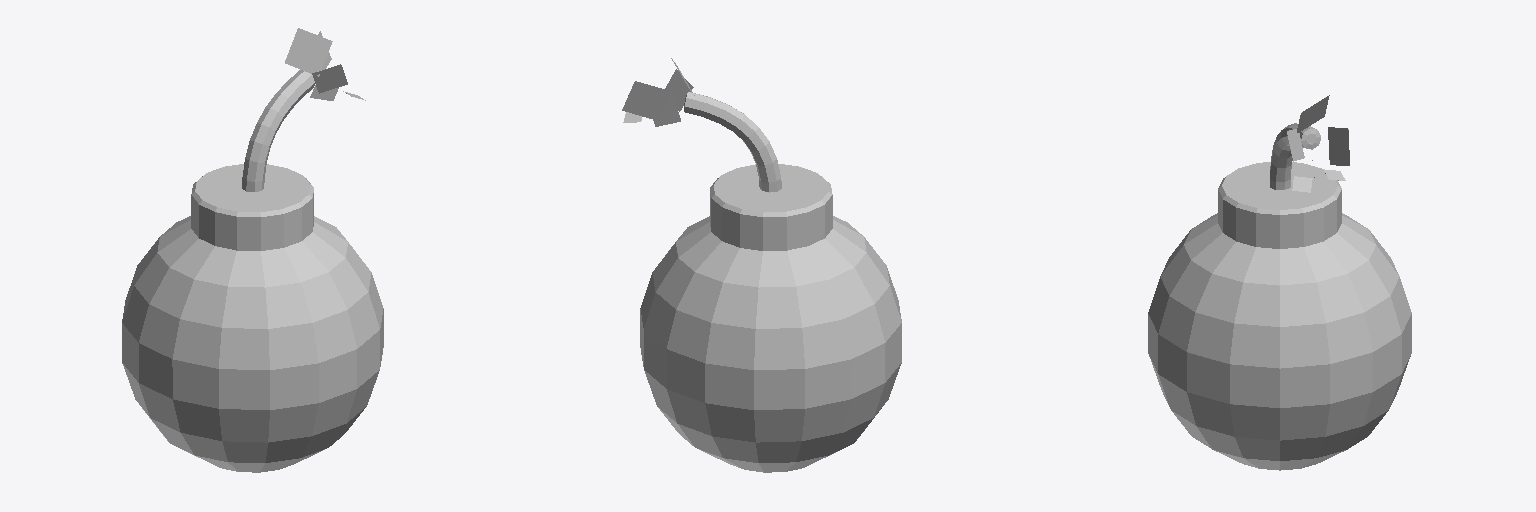
File: bomb_000006.obj
3 views of the same model, side by side, from view 1: azimuth 30°, elevation 25°; view 2: azimuth 150°, elevation 25°; view 3: azimuth 270°, elevation 25° (orthographic).
Visible parts, largest first — view 1: Sphere, NurbsPath, Plane_5.001_Mesh.001; view 2: Sphere, NurbsPath, Plane_5.001_Mesh.001; view 3: Sphere, Plane_5.001_Mesh.001, NurbsPath.
Part boxes in pixels (left/top/right/bottom): Sphere: left=122, top=164, right=383, bottom=472; NurbsPath: left=242, top=70, right=315, bottom=191; Plane_5.001_Mesh.001: left=285, top=28, right=365, bottom=100; Sphere: left=640, top=164, right=901, bottom=472; NurbsPath: left=684, top=92, right=781, bottom=192; Plane_5.001_Mesh.001: left=622, top=58, right=694, bottom=126; Sphere: left=1148, top=162, right=1411, bottom=470; Plane_5.001_Mesh.001: left=1287, top=95, right=1349, bottom=192; NurbsPath: left=1270, top=123, right=1320, bottom=189.
Size of the model in its own units: 0.8385 by 1.32 by 0.8157.